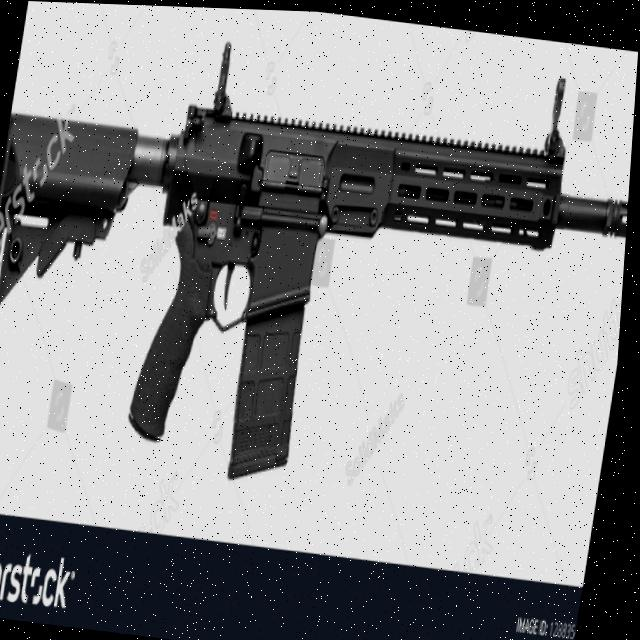firearm: (0, 0, 640, 524)
